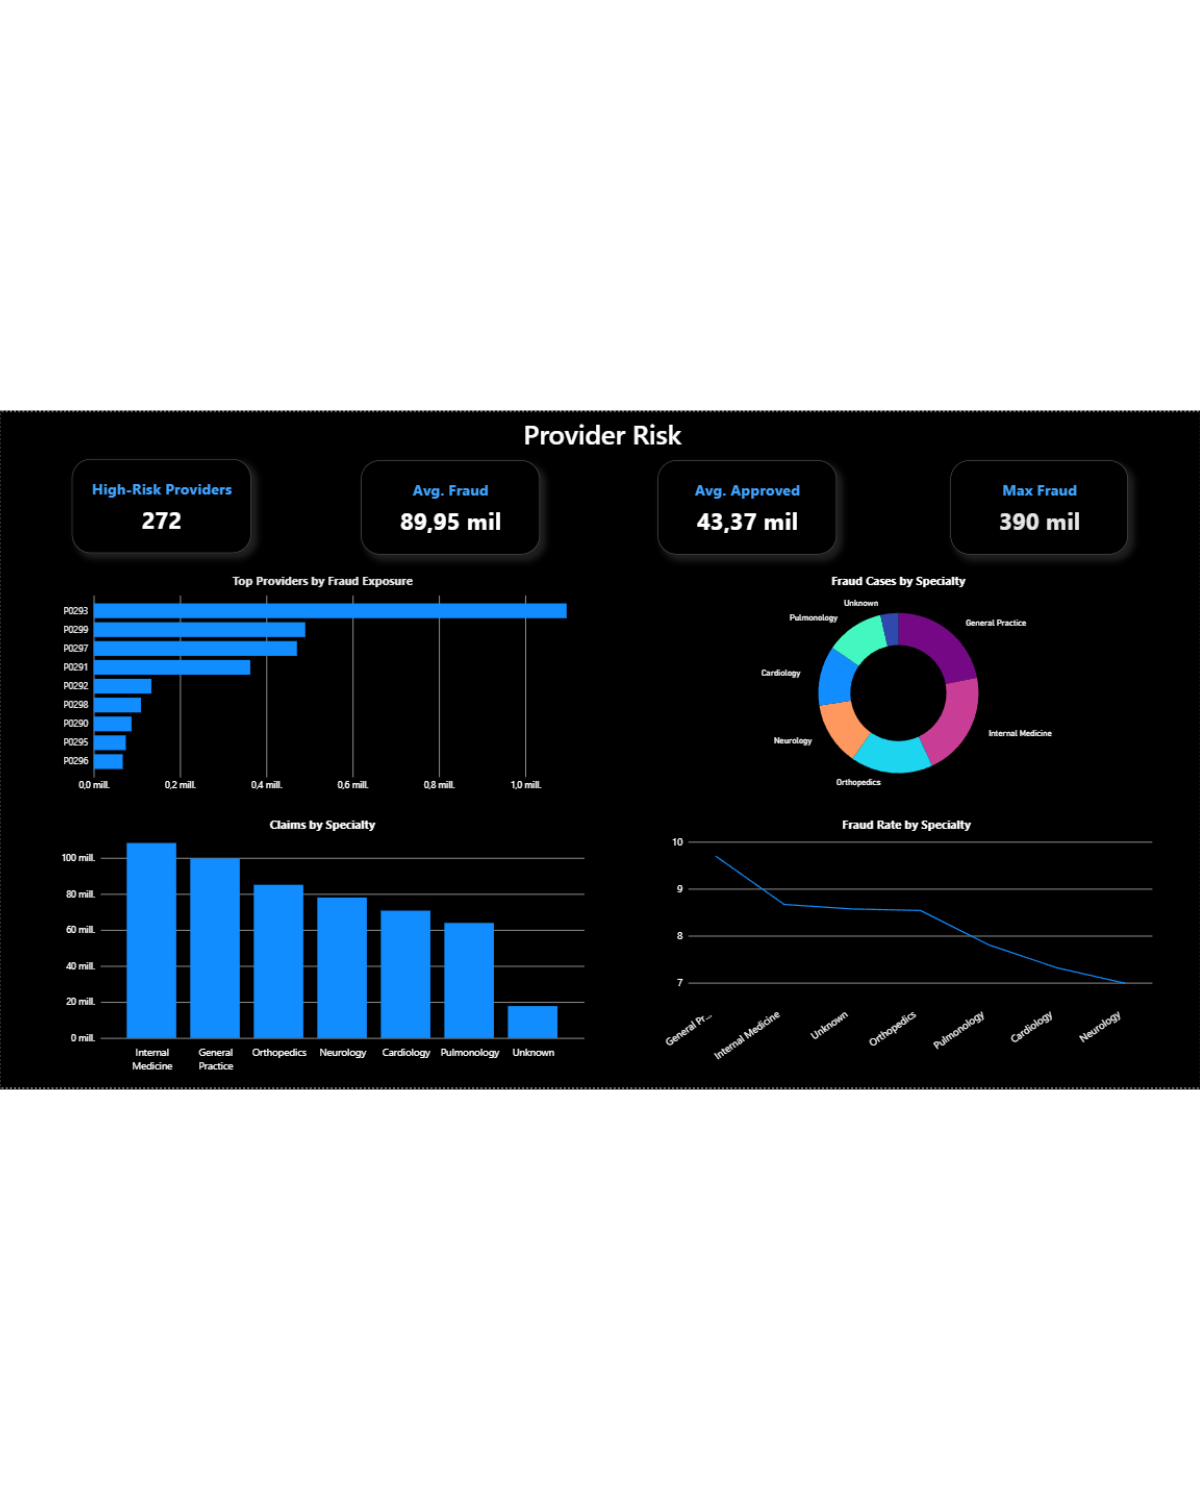

The page's visual inventory and layout, read from the dashboard file:
{"tool":"powerbi","page":{"name":"Provider Risk","canvas":[1920,1080],"ordinal":2},"visuals":[{"type":"donutChart","title":"Fraud Cases by Specialty","fields":{"Category":["healthcare_dashboard.Provider_Specialty"],"Y":["healthcare_dashboard.Fraud Cases"]},"box":[990.8,255.6,891.9,362],"z":0},{"type":"clusteredBarChart","title":"Top Providers by Fraud Exposure","fields":{"Category":["healthcare_dashboard.Provider_ID"],"Y":["healthcare_dashboard.Fraud Exposure"]},"box":[91.7,256.2,847.9,360.4],"z":1000},{"type":"clusteredColumnChart","title":"Claims by Specialty","fields":{"Category":["healthcare_dashboard.Provider_Specialty"],"Y":["healthcare_dashboard.Claim Amount"]},"box":[91.7,645.8,847.9,418.8],"z":2000},{"type":"lineChart","title":"Fraud Rate by Specialty","fields":{"Category":["healthcare_dashboard.Provider_Specialty"],"Y":["healthcare_dashboard.Fraud Rate %"]},"box":[1052.4,645.6,796.8,418],"z":3000},{"type":"textbox","box":[6.2,0,1914.6,75],"z":4000},{"type":"cardVisual","fields":{"Data":["healthcare_dashboard.High Risk Providers"]},"box":[114,76,286,150],"z":5000},{"type":"cardVisual","fields":{"Data":["healthcare_dashboard.Average Fraud Claim"]},"box":[576.6,76.5,286,150],"z":6000},{"type":"cardVisual","fields":{"Data":["healthcare_dashboard.Average Approved Amount"]},"box":[1052.4,76.5,286,150],"z":7000},{"type":"cardVisual","fields":{"Data":["healthcare_dashboard.Highest Fraud Claim"]},"box":[1520.7,76.5,284,150],"z":8000}]}

Visuals, with their boxes on the page's 1920x1080 design canvas (x1, y1, x2, y2). These are canvas units, not pixel positions in the 1200x1500 screenshot, which may show the page scaled, cropped or inside an application window:
"Fraud Cases by Specialty" donutChart: crop(991, 256, 1883, 618)
"Top Providers by Fraud Exposure" clusteredBarChart: crop(92, 256, 940, 617)
"Claims by Specialty" clusteredColumnChart: crop(92, 646, 940, 1065)
"Fraud Rate by Specialty" lineChart: crop(1052, 646, 1849, 1064)
textbox: crop(6, 0, 1921, 75)
cardVisual - healthcare_dashboard.High Risk Providers: crop(114, 76, 400, 226)
cardVisual - healthcare_dashboard.Average Fraud Claim: crop(577, 76, 863, 226)
cardVisual - healthcare_dashboard.Average Approved Amount: crop(1052, 76, 1338, 226)
cardVisual - healthcare_dashboard.Highest Fraud Claim: crop(1521, 76, 1805, 226)
